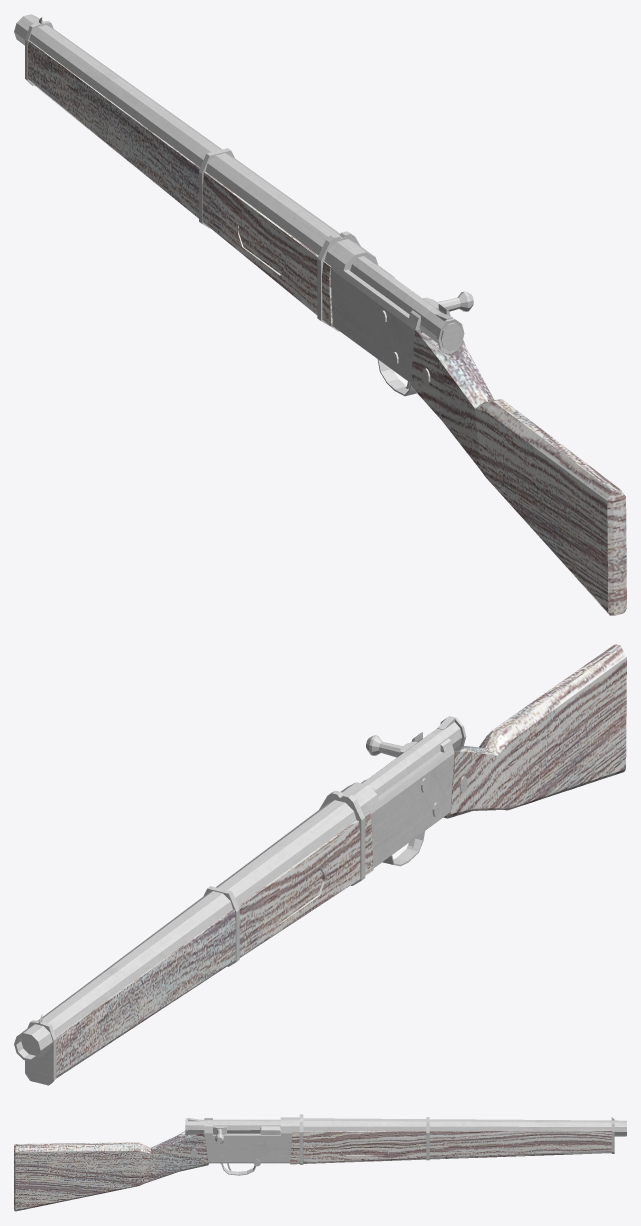
File: Prince.fbx
3 renders of one model, top to bottom at view 1: azimuth 30°, elevation 25°; view 2: azimuth 150°, elevation 25°; view 3: azimuth 270°, elevation 25°, orthographic. The views are drawn at different scales.
Visible parts, largest first — view 1: Wood1, Receiver1, Bolt1, Steel1; view 2: Wood1, Receiver1, Bolt1, Steel1; view 3: Wood1, Receiver1, Bolt1, Steel1, Trigger1.
Boxes of the visible parts, left/top/right/bottom form: Wood1: left=28, top=40, right=626, bottom=615; Receiver1: left=14, top=14, right=450, bottom=382; Bolt1: left=350, top=256, right=473, bottom=353; Steel1: left=25, top=17, right=430, bottom=385; Wood1: left=56, top=644, right=626, bottom=1078; Receiver1: left=14, top=732, right=454, bottom=1061; Bolt1: left=361, top=716, right=466, bottom=796; Steel1: left=25, top=776, right=467, bottom=1085; Wood1: left=14, top=1130, right=611, bottom=1211; Receiver1: left=204, top=1117, right=626, bottom=1163; Bolt1: left=185, top=1117, right=280, bottom=1144; Steel1: left=190, top=1114, right=614, bottom=1164; Trigger1: left=208, top=1163, right=255, bottom=1175.
Size of the model in its own units: 38.07 by 88.19 by 529.
